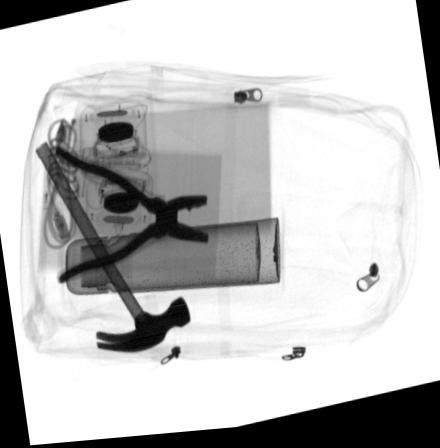Hammer: (35, 142, 190, 353)
Pliers: (54, 147, 207, 285)
